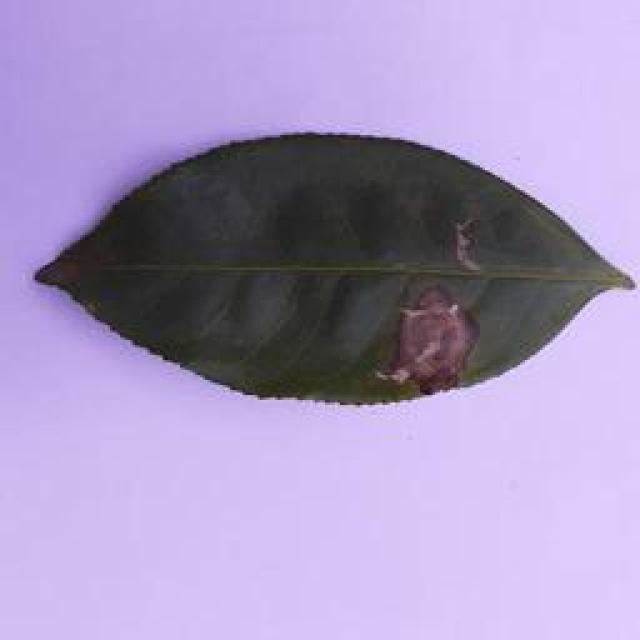Gray Blight: (29, 131, 640, 406)
